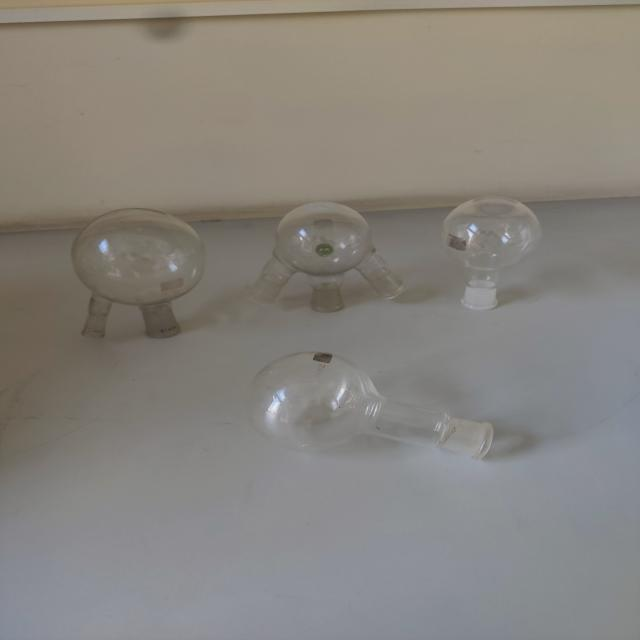Round_Bottom_Flask_Borosilicate_Glass_1_Neck: (235, 335, 512, 492), (423, 172, 551, 326)
Round_Bottom_Flask_Borosilicate_Glass_2_Neck: (54, 196, 225, 364)
Round_Bottom_Flask_Borosilicate_Glass_3_Neck: (233, 186, 420, 329)
